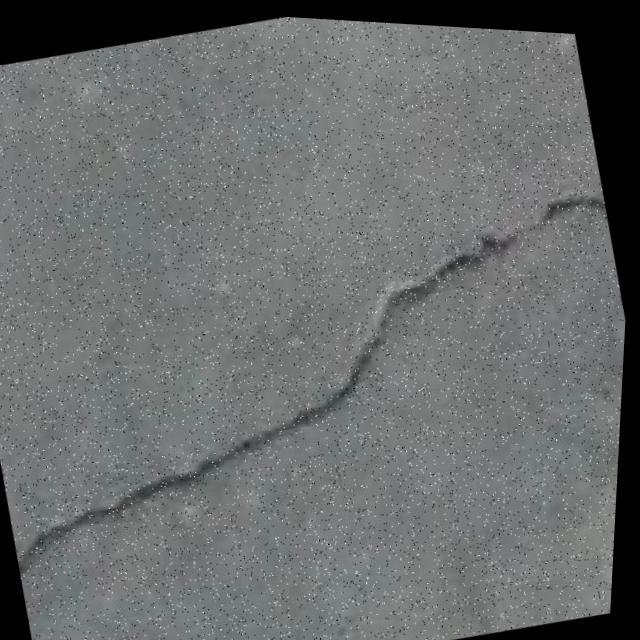Crack: (0, 134, 635, 608)
